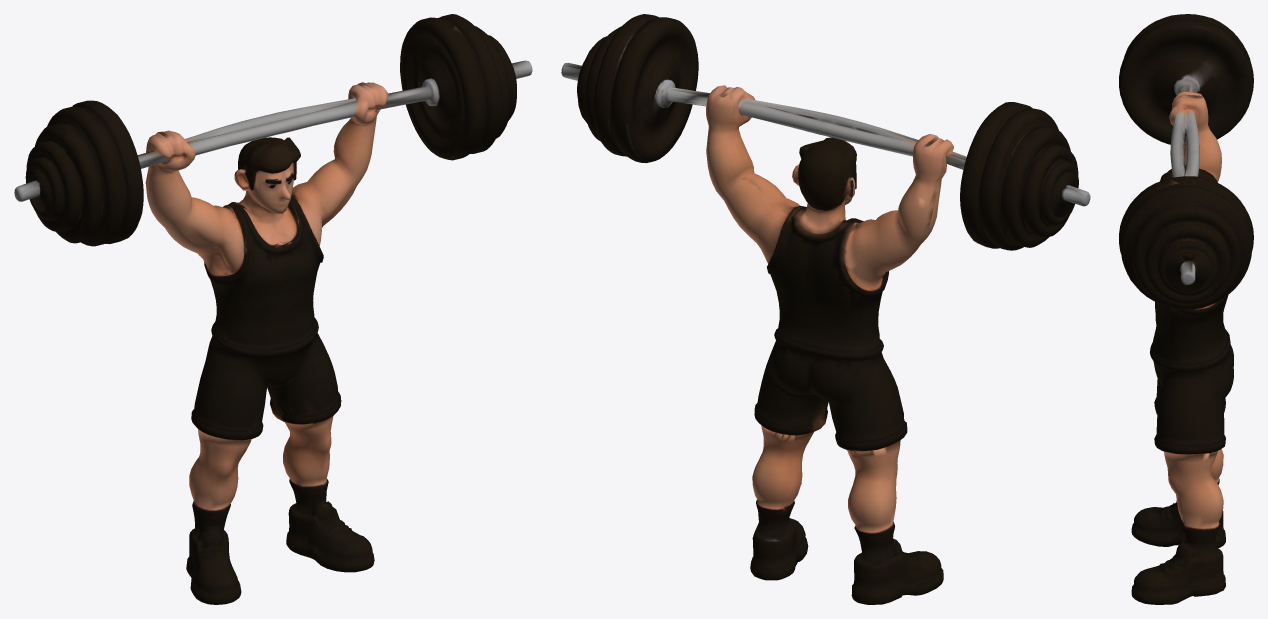
Rendered from a_barbell_6c74f40a_v4.glb.
3 views of the same model, side by side, from view 1: azimuth 30°, elevation 25°; view 2: azimuth 150°, elevation 25°; view 3: azimuth 270°, elevation 25° (orthographic). The views are drawn at different scales.
Visible parts, largest first — view 1: material; view 2: material; view 3: material.
Part boxes in pixels (x1=…): material: x1=14, y1=14, x2=532, y2=604; material: x1=561, y1=14, x2=1090, y2=604; material: x1=1119, y1=14, x2=1253, y2=604.
Size of the model in its own units: 1.9 by 1.78 by 0.4629.
Materials: 1 (1 with a texture image).
